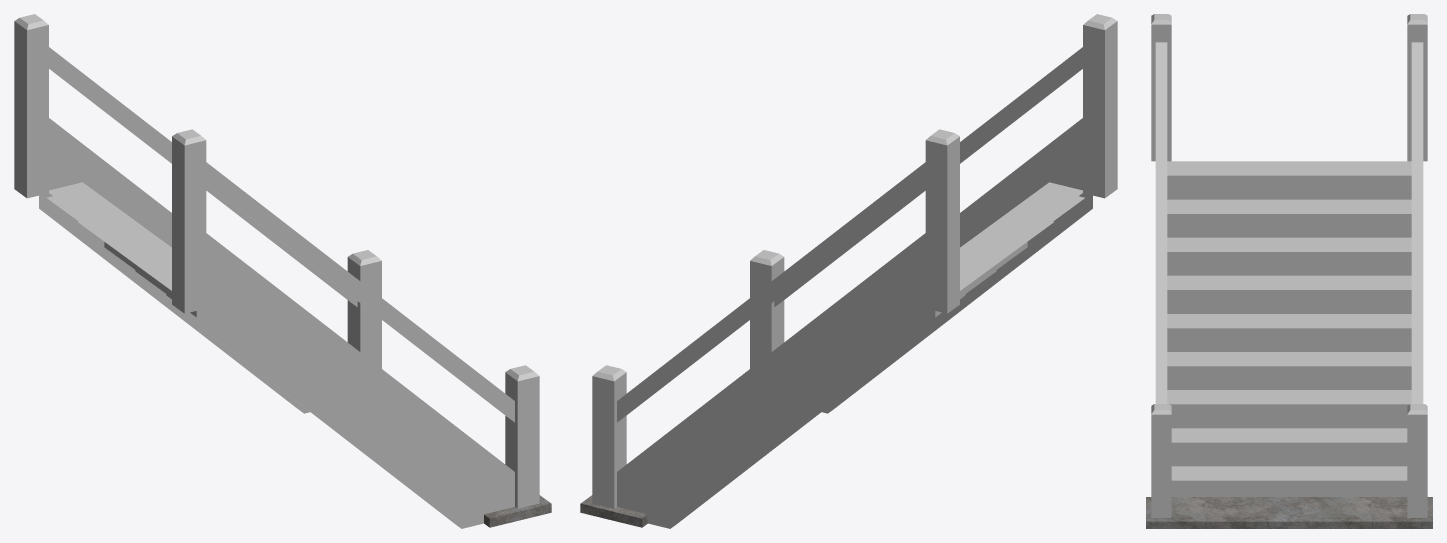
The model's file is SM_Stair_3.FBX.
3 views of the same model, side by side, from view 1: azimuth 30°, elevation 25°; view 2: azimuth 150°, elevation 25°; view 3: azimuth 270°, elevation 25° (orthographic). The views are drawn at different scales.
Parts seen in each view (by area): view 1: SM_Stair_3; view 2: SM_Stair_3; view 3: SM_Stair_3.
Boxes of the visible parts, x1,y1,x2,y2 form: SM_Stair_3: (14,14,551,528); SM_Stair_3: (580,14,1117,528); SM_Stair_3: (1146,14,1432,528).
Size of the model in its own units: 476 by 572 by 399.
